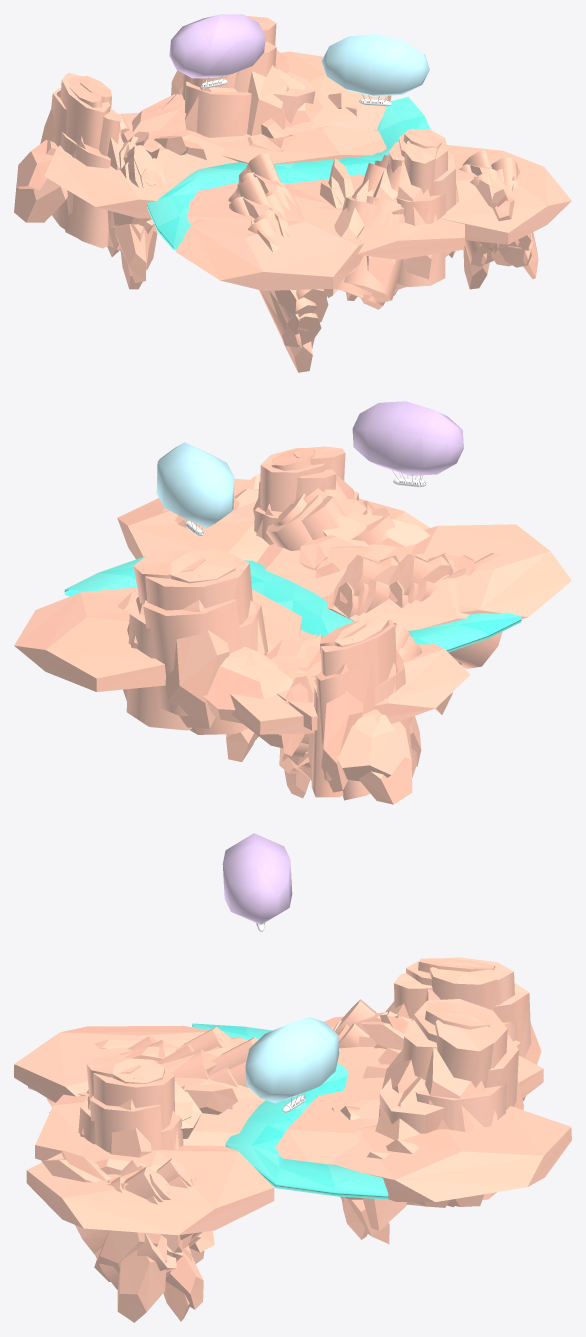
File: fierce-talk.glb
3 views of the same model, one above another, from view 1: azimuth 30°, elevation 25°; view 2: azimuth 150°, elevation 25°; view 3: azimuth 270°, elevation 25° (orthographic). The views are drawn at different scales.
Bounding box in the file's own units: 44.3 × 35.06 × 47.54.
